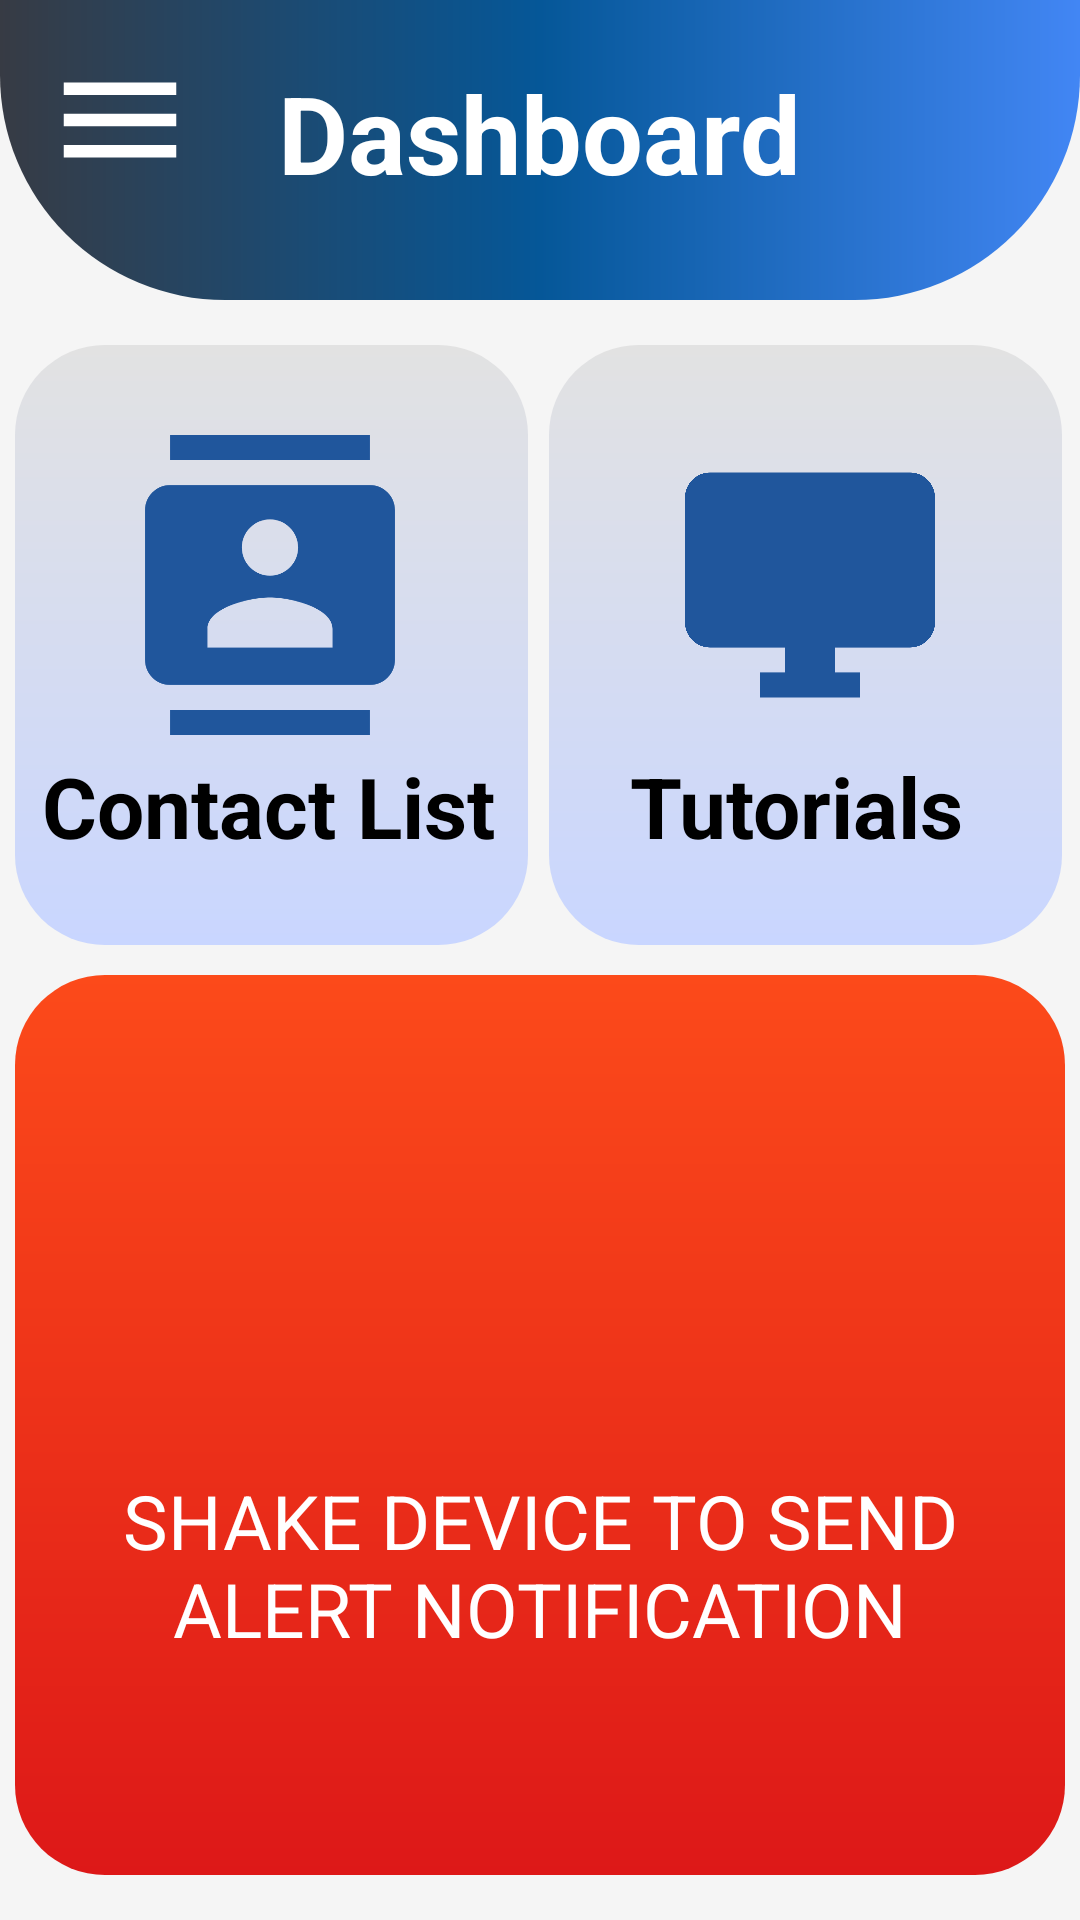

Icons on this 1080 × 1920 Android screen, each with the point to tap as point (x, y):
desktop windows: point (810, 585)
